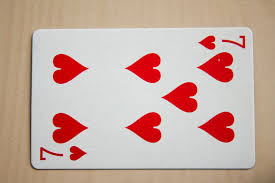seven of hearts: (31, 26, 256, 168)
